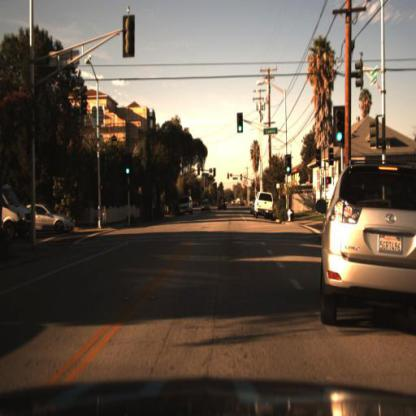car: (317, 160, 416, 331), (2, 183, 38, 230), (31, 203, 73, 236), (254, 191, 274, 221), (179, 195, 194, 216), (217, 196, 230, 214)
trafficLight-Green: (334, 108, 344, 150), (236, 111, 245, 135), (129, 152, 137, 177), (336, 125, 345, 147), (126, 165, 134, 181), (286, 153, 291, 177), (237, 125, 245, 138)
